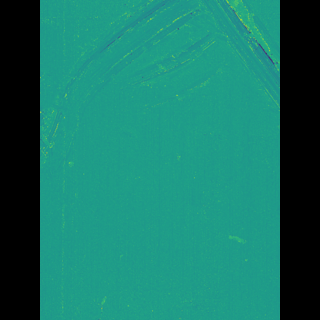Loch: (68, 0, 251, 182)
